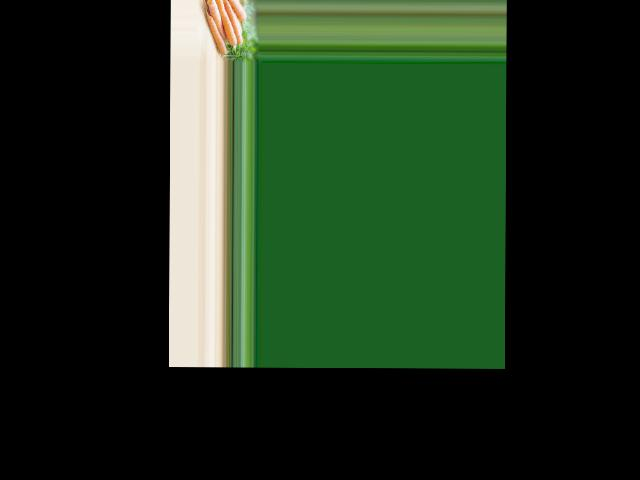carrot: (199, 11, 225, 56)
